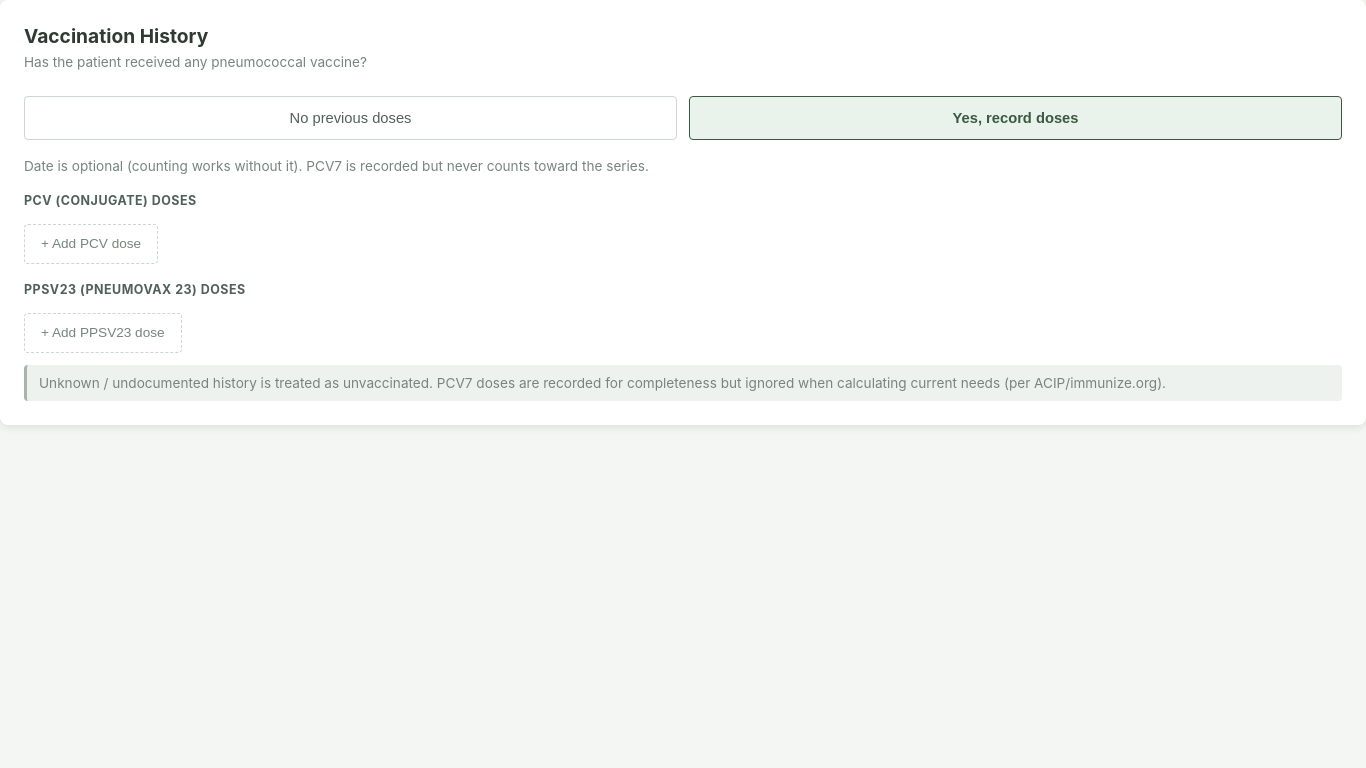
S9 — the dose editor has one home › the details-unknown tick, on both surfaces › history offers it on an untouched PCV row
Click the button "+ Add PCV dose": point(91, 244) [24,224,158,264]
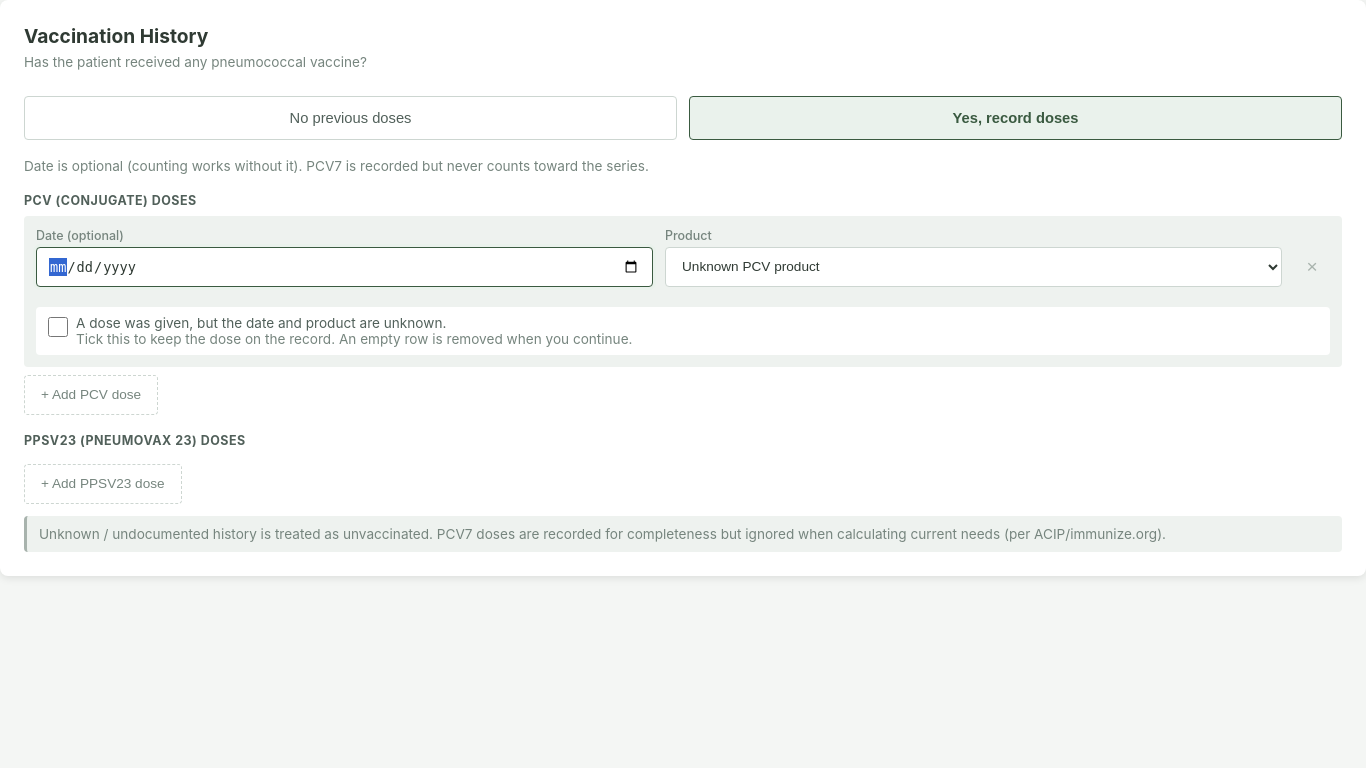
expect the number of checkboxes labelled "A dose was given, but the date and product are unknown" is 1: met, box [48,317,68,337]
